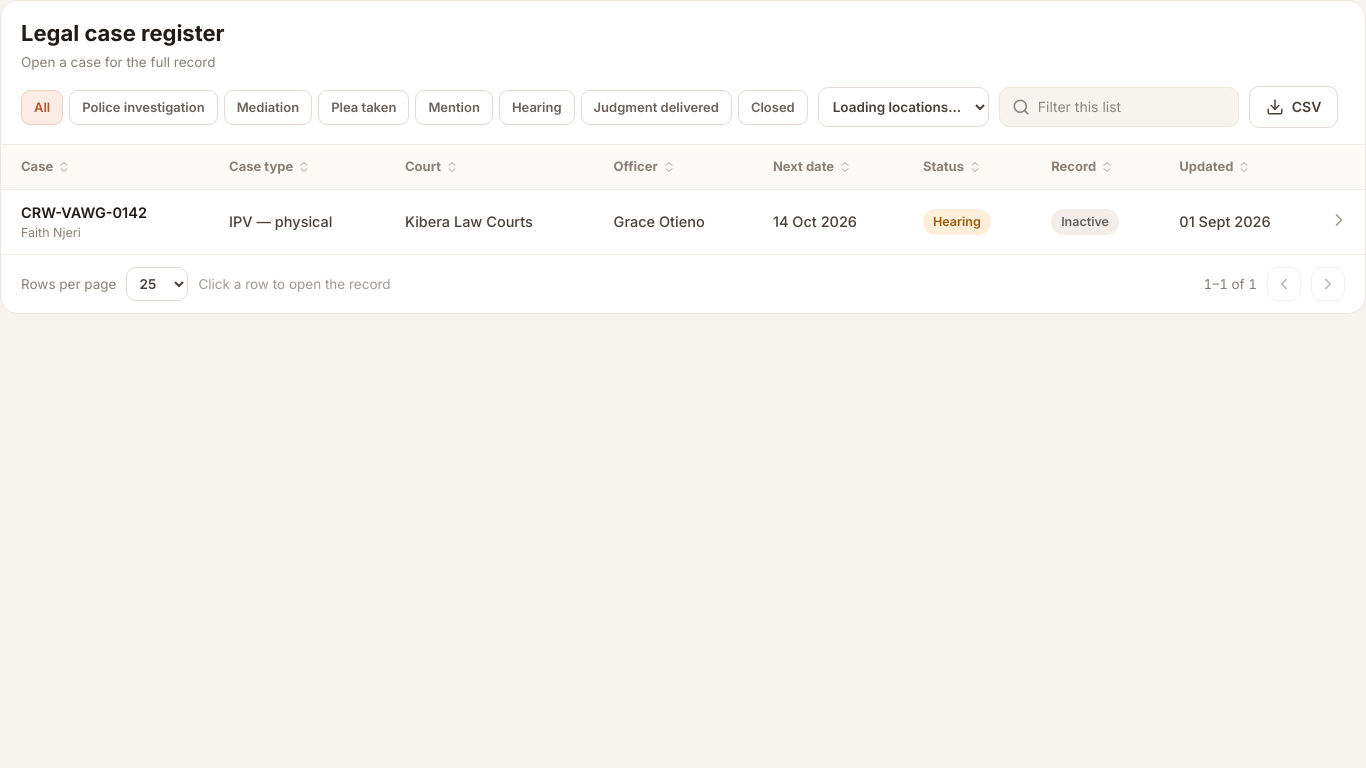
Test: VAWG case register › ends the overview with the record's status, dates and outcome notes
Click the button named "Open CRW-VAWG-0142": (1339, 220) [1327, 208, 1351, 232]
(page scrolled)
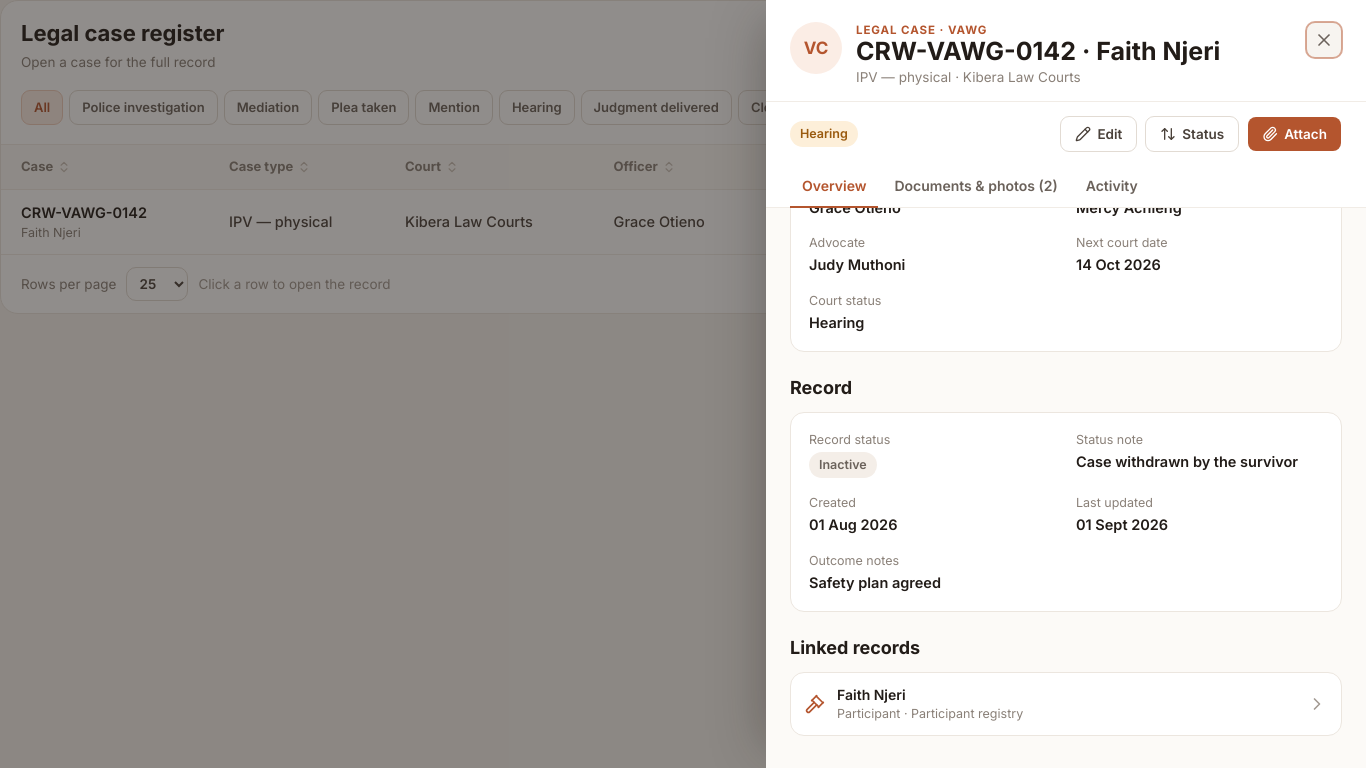
Result: the tab "Documents & photos (2)" is shown at [882, 166, 1070, 208]
Result: the element "Record" shows "Record status" at [809, 432, 890, 448]
Result: the text "Inactive" is shown at [809, 452, 877, 478]
